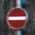No entry: (6, 5, 30, 30)
